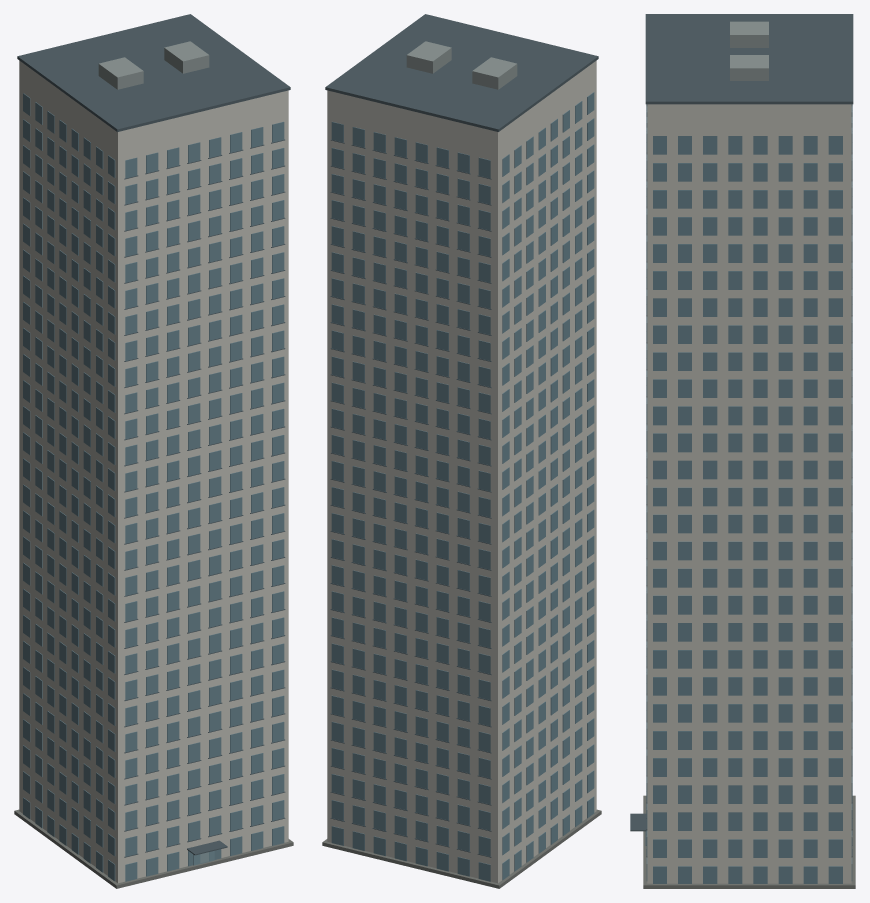
File: building-office.glb
3 views of the same model, side by side, from view 1: azimuth 30°, elevation 25°; view 2: azimuth 150°, elevation 25°; view 3: azimuth 270°, elevation 25° (orthographic). The views are drawn at different scales.
Visible parts, largest first — view 1: main_volume, roof, roof_hvac (×2), foundation; view 2: main_volume, roof, roof_hvac (×2), foundation; view 3: main_volume, roof, roof_hvac (×2), foundation.
Part boxes in pixels (x1,y1,x2,y2): main_volume: (19,60,288,883); roof: (17,14,290,131); roof_hvac (×2): (98,41,209,89); foundation: (14,809,293,888); main_volume: (327,60,596,883); roof: (325,14,598,131); roof_hvac (×2): (406,41,517,89); foundation: (322,809,601,888); main_volume: (647,104,851,883); roof: (645,14,853,104); roof_hvac (×2): (730,21,768,80); foundation: (643,795,855,888).
Size of the model in its own units: 27 by 112 by 28.65.
